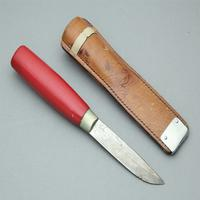knife: (7, 40, 166, 189)
